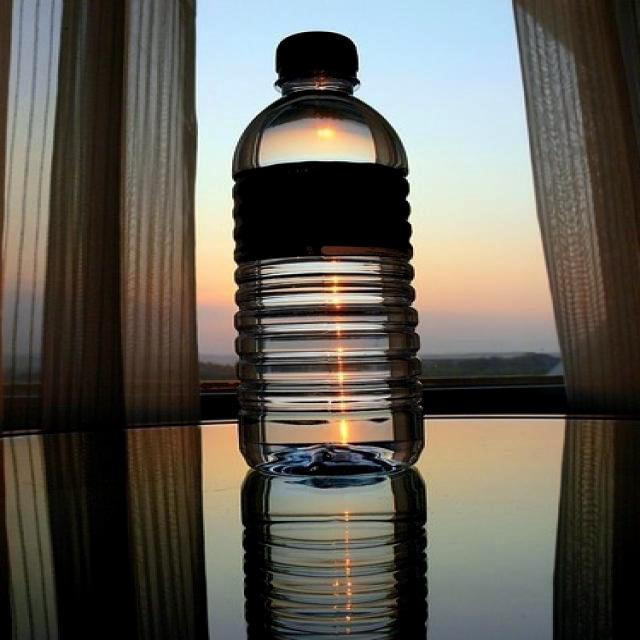bottle: (231, 30, 426, 489)
